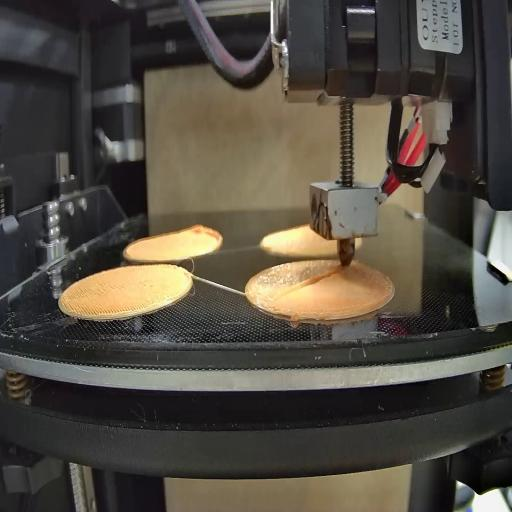over_extrusion: (278, 266, 339, 300), (186, 217, 226, 257)
